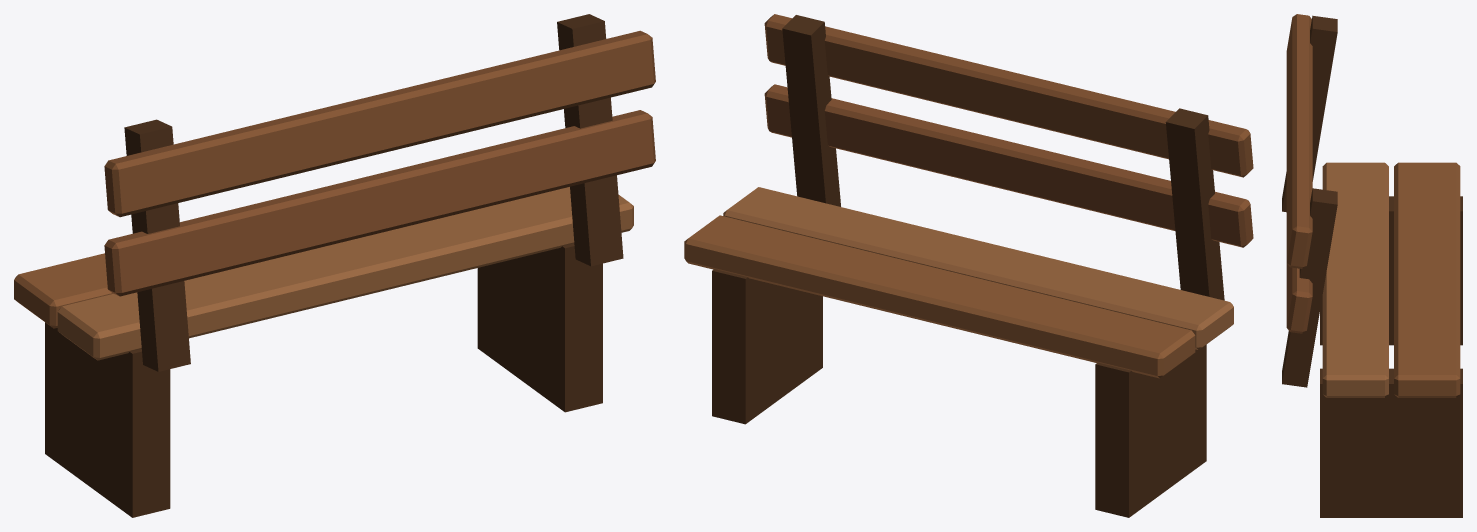
File: Bench.glb
3 renders of one model, left to right at view 1: azimuth 30°, elevation 25°; view 2: azimuth 150°, elevation 25°; view 3: azimuth 270°, elevation 25°, orthographic. The views are drawn at different scales.
Visible parts, largest first — view 1: Body; view 2: Body; view 3: Body.
Boxes of the visible parts, left/top/right/bottom form: Body: left=14, top=14, right=655, bottom=517; Body: left=684, top=14, right=1253, bottom=517; Body: left=1282, top=14, right=1462, bottom=517.
Size of what is drawn, in the model's own units: 5 by 3.41 by 1.77.
